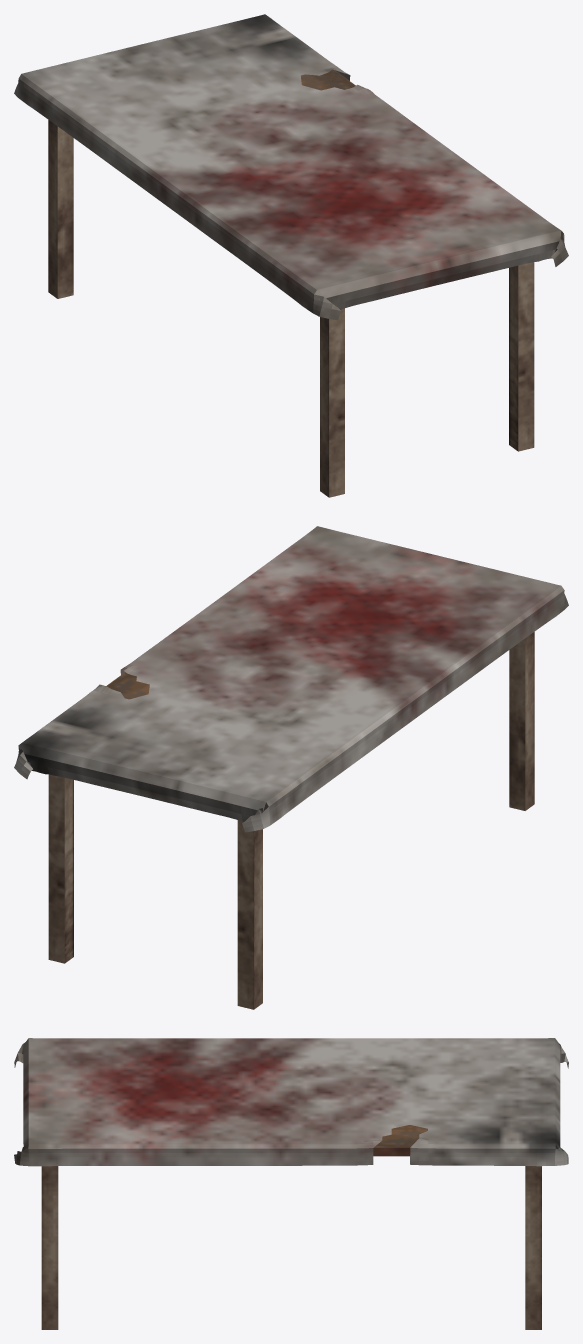
The model's file is butcher_table_1.fbx.
3 views of the same model, one above another, from view 1: azimuth 30°, elevation 25°; view 2: azimuth 150°, elevation 25°; view 3: azimuth 270°, elevation 25° (orthographic). The views are drawn at different scales.
Parts seen in each view (by area): view 1: wooden_table_outside_cloth, wooden_table_outside_support, wooden_table_outside_plane; view 2: wooden_table_outside_cloth, wooden_table_outside_support, wooden_table_outside_plane; view 3: wooden_table_outside_cloth, wooden_table_outside_support, wooden_table_outside_plane.
Part boxes in pixels (x1,y1,x2,y2): wooden_table_outside_cloth: (14, 14, 568, 320); wooden_table_outside_support: (48, 120, 534, 497); wooden_table_outside_plane: (301, 69, 355, 90); wooden_table_outside_cloth: (14, 526, 568, 832); wooden_table_outside_support: (48, 632, 534, 1009); wooden_table_outside_plane: (106, 672, 149, 699); wooden_table_outside_cloth: (14, 1038, 568, 1166); wooden_table_outside_support: (41, 1166, 541, 1329); wooden_table_outside_plane: (373, 1125, 427, 1156).
Size of the model in its own units: 227 by 189 by 483.
